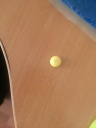Nurofen: (49, 55, 62, 68)
